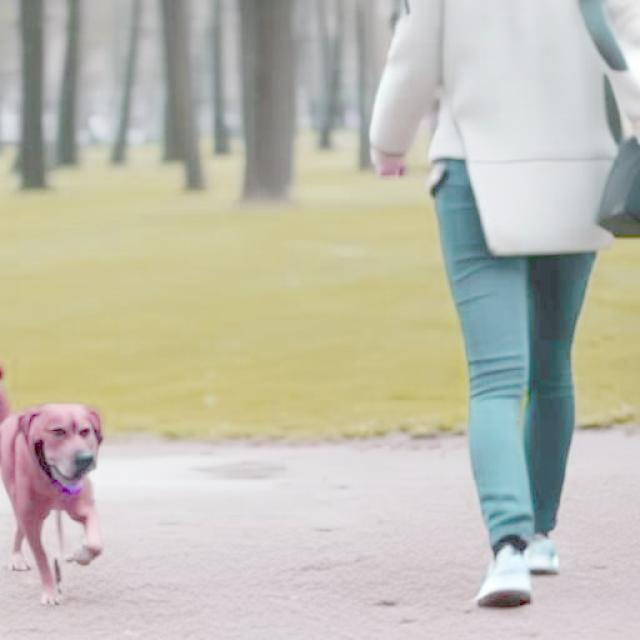Unleashed_Dog: (0, 161, 534, 607)
